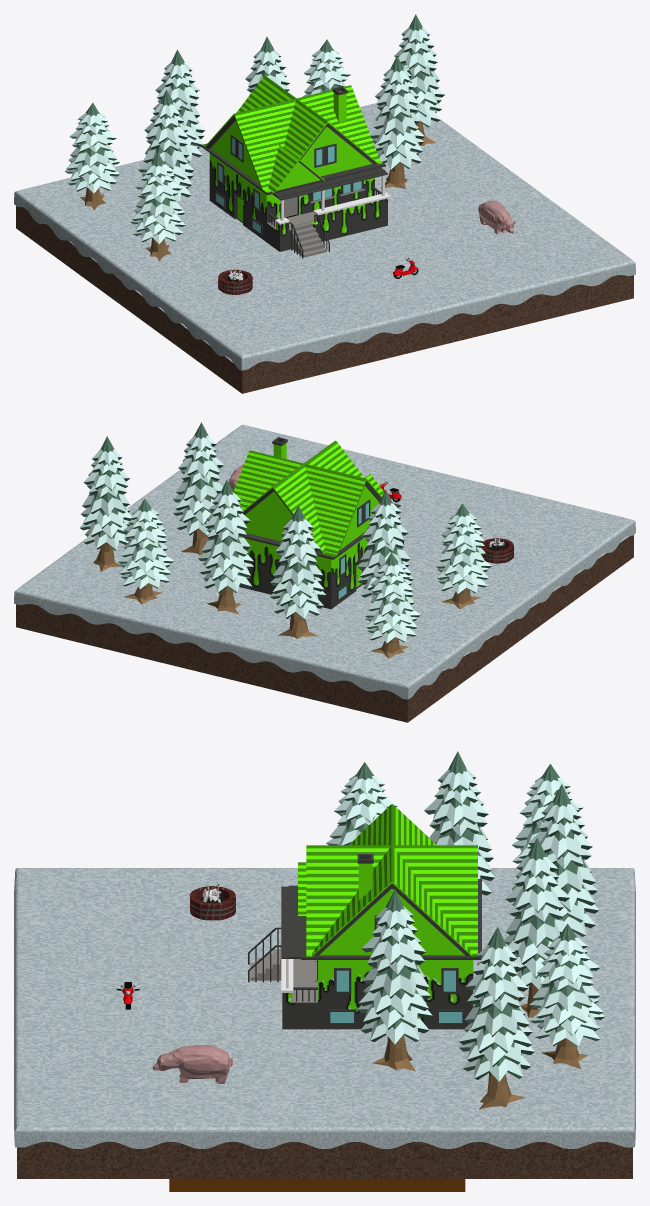
The picture shows the model from 3 angles, top to bottom: view 1: azimuth 30°, elevation 25°; view 2: azimuth 150°, elevation 25°; view 3: azimuth 270°, elevation 25°; orthographic projection. The views are drawn at different scales.
Visible parts, largest first — view 1: Cube.003, Cube.754, ANIMAL_HIPOPOTAMO, OBJRANDOM_CAMPFIRE; view 2: Cube.003, Cube.754, OBJRANDOM_CAMPFIRE; view 3: Cube.003, Cube.754, UNDERGROUND_ART_PIECE_VAN_GOGH, ANIMAL_HIPOPOTAMO, OBJRANDOM_CAMPFIRE.
Boxes of the visible parts, x1,y1,x2,y2 form: Cube.003: (14,14,635,393); Cube.754: (201,75,390,258); ANIMAL_HIPOPOTAMO: (478,200,515,234); OBJRANDOM_CAMPFIRE: (218,263,252,294); Cube.003: (14,422,635,722); Cube.754: (233,437,403,609); OBJRANDOM_CAMPFIRE: (481,538,513,563); Cube.003: (14,751,635,1178); Cube.754: (248,804,481,1029); UNDERGROUND_ART_PIECE_VAN_GOGH: (169,1179,465,1191); ANIMAL_HIPOPOTAMO: (152,1044,232,1083); OBJRANDOM_CAMPFIRE: (189,883,235,920).
Size of the model in its own units: 4040 by 1818 by 4040.
31 materials, 5 textured.
